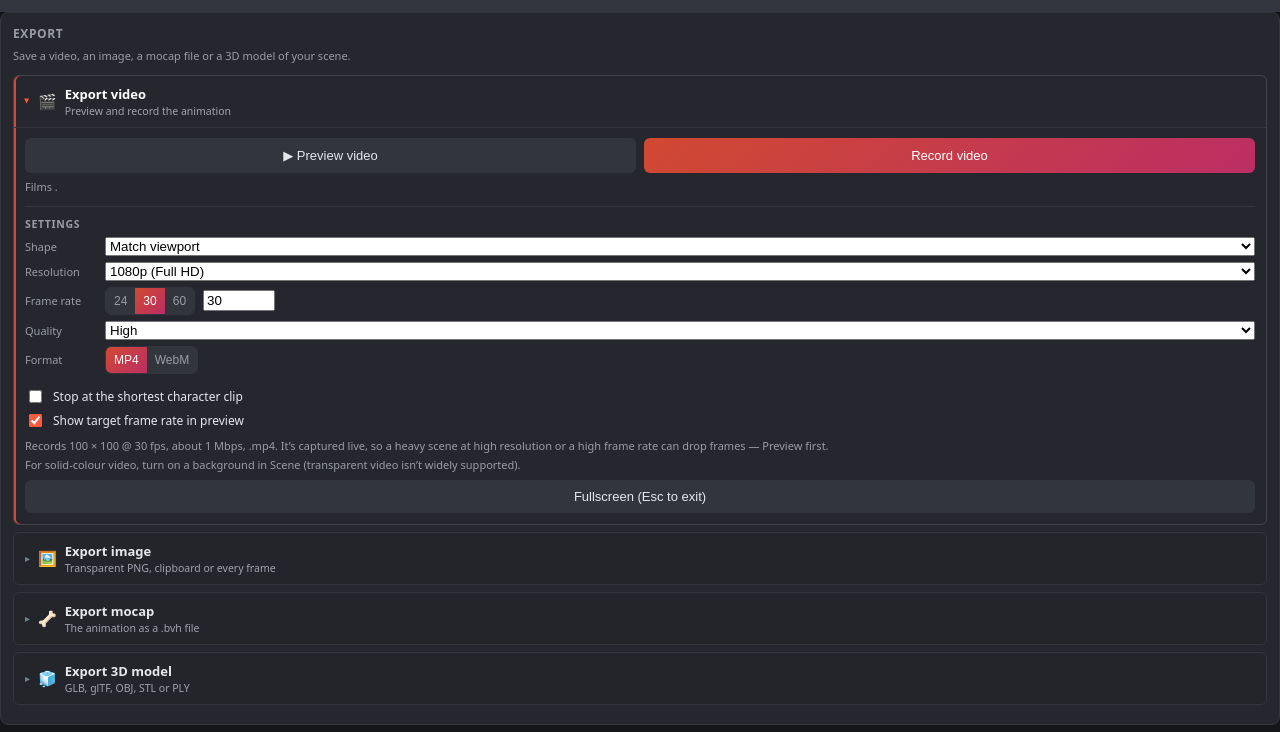
Test: Export panel — layout › shows a result next to the button that made it
Click the button "▸ 🧊 Export 3D model GLB, glTF, OBJ, STL or PLY".
click(118, 670)  # box [14,652,1266,704]
(page scrolled)
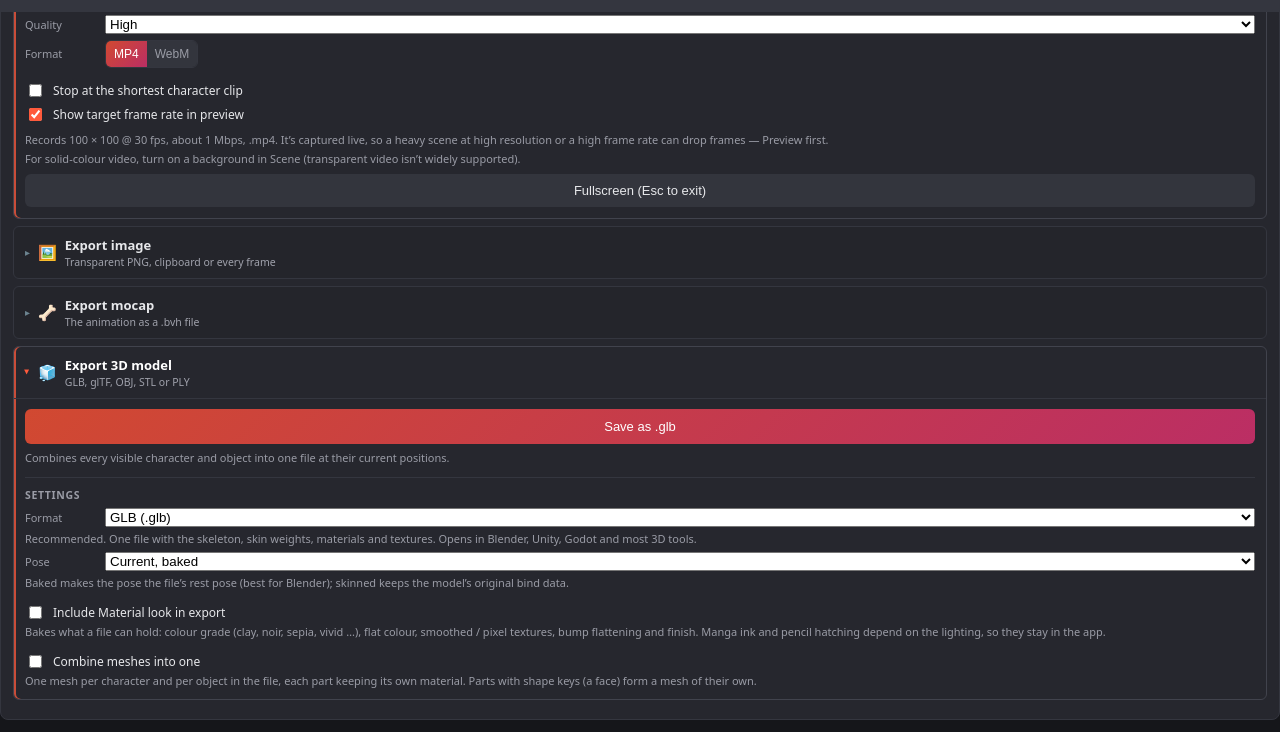
Click the button "Save as .glb".
click(640, 426)  # box [25,408,1255,444]
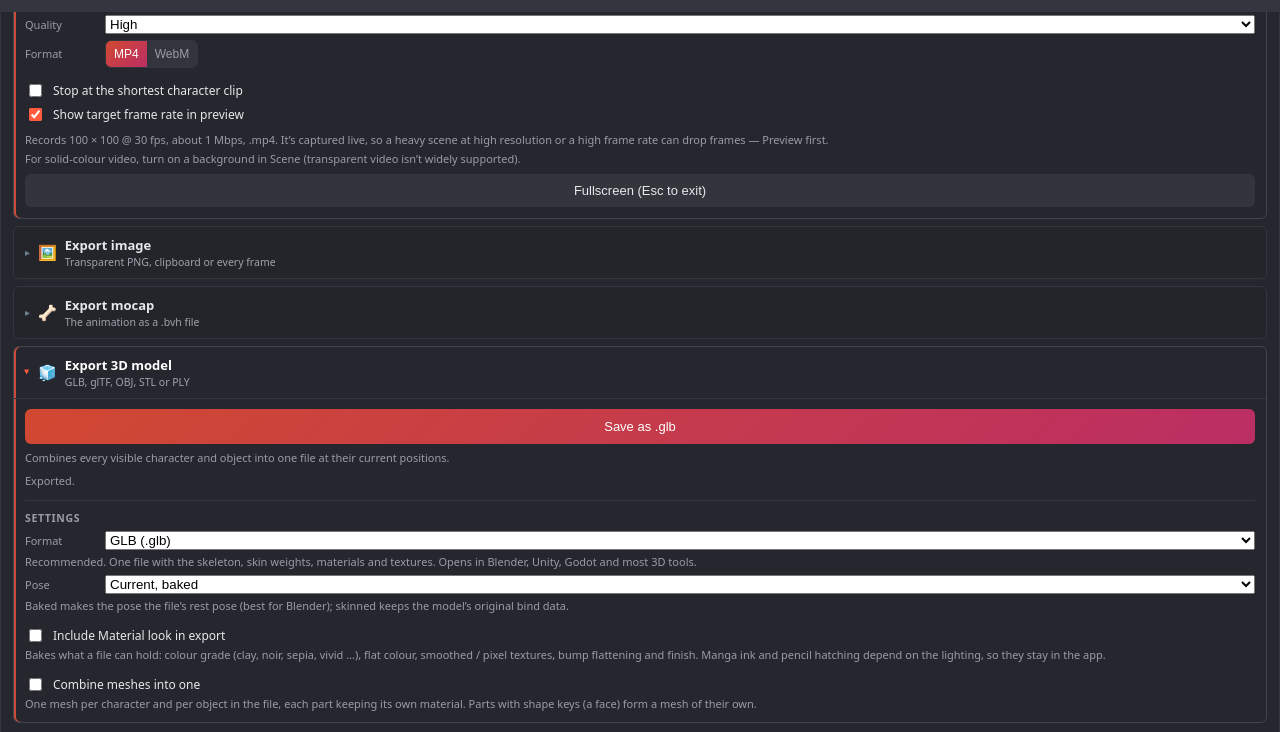
Expected: the text "Exported." shows "Export 3D model", [14,346,1266,398]
Expected: the text "Exported." is shown, [25,472,75,488]
